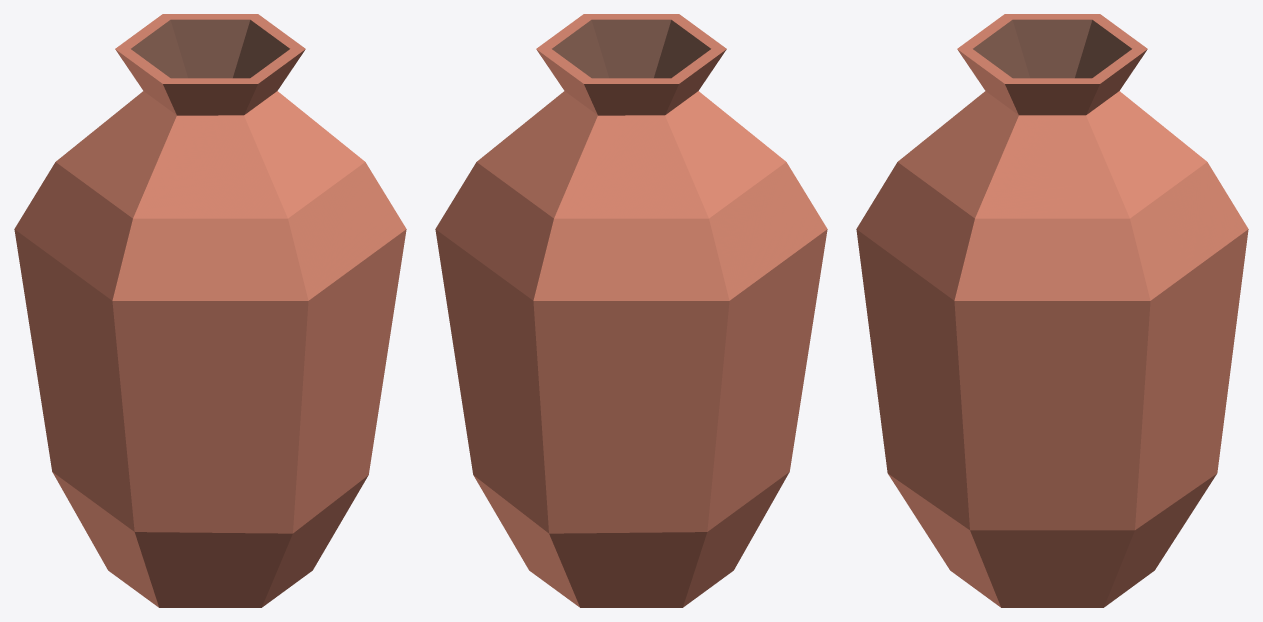
The model's file is prop_059.fbx.
3 views of the same model, side by side, from view 1: azimuth 30°, elevation 25°; view 2: azimuth 150°, elevation 25°; view 3: azimuth 270°, elevation 25° (orthographic).
Visible parts, largest first — view 1: prop.059; view 2: prop.059; view 3: prop.059.
Boxes of the visible parts, x1,y1,x2,y2 form: prop.059: [14, 14, 406, 607]; prop.059: [435, 14, 827, 607]; prop.059: [856, 14, 1248, 607].
Bounding box in the file's own units: 74.4 × 126 × 85.9.
Materials: 1 (1 with a texture image).
